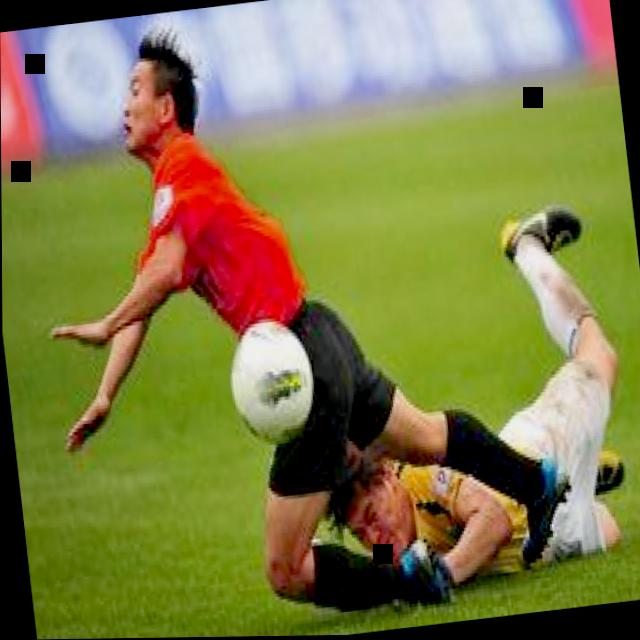Fall-Detected: (272, 166, 640, 619)
